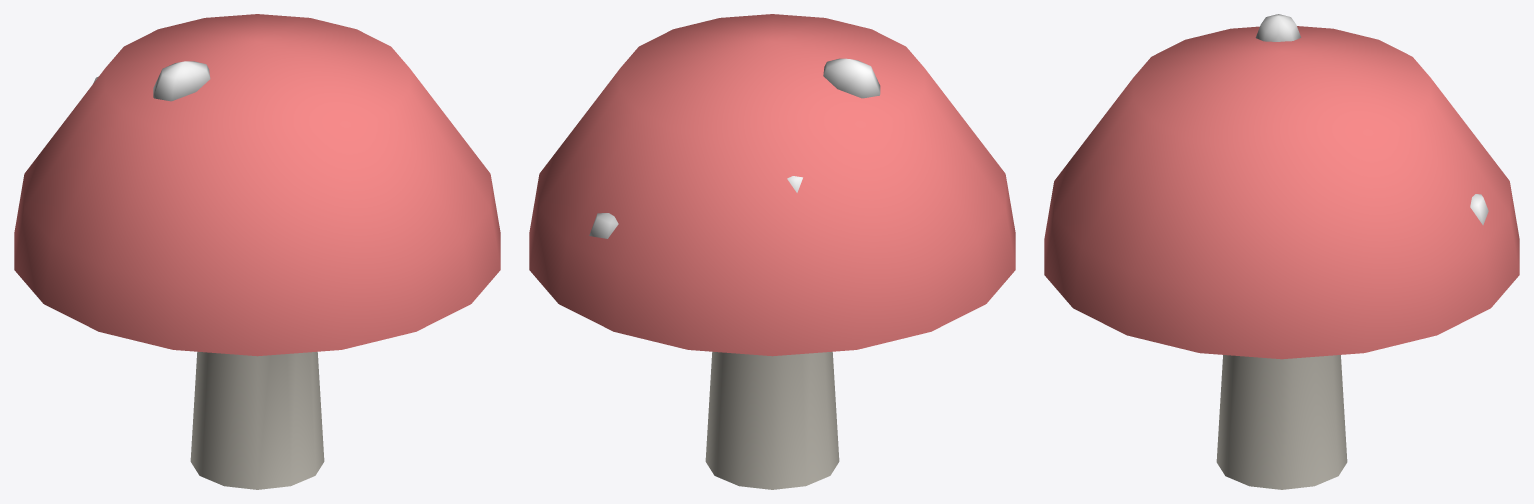
File: Forest_Mushroom1.fbx
3 renders of one model, left to right at view 1: azimuth 30°, elevation 25°; view 2: azimuth 150°, elevation 25°; view 3: azimuth 270°, elevation 25°, orthographic. The views are drawn at different scales.
Parts seen in each view (by area): view 1: Forest_Mushroom1; view 2: Forest_Mushroom1; view 3: Forest_Mushroom1.
Boxes of the visible parts, x1=… form: Forest_Mushroom1: x1=14, y1=14, x2=500, y2=489; Forest_Mushroom1: x1=529, y1=14, x2=1015, y2=489; Forest_Mushroom1: x1=1044, y1=14, x2=1519, y2=489.
Bounding box in the file's own units: 1.73 × 1.62 × 1.7.
